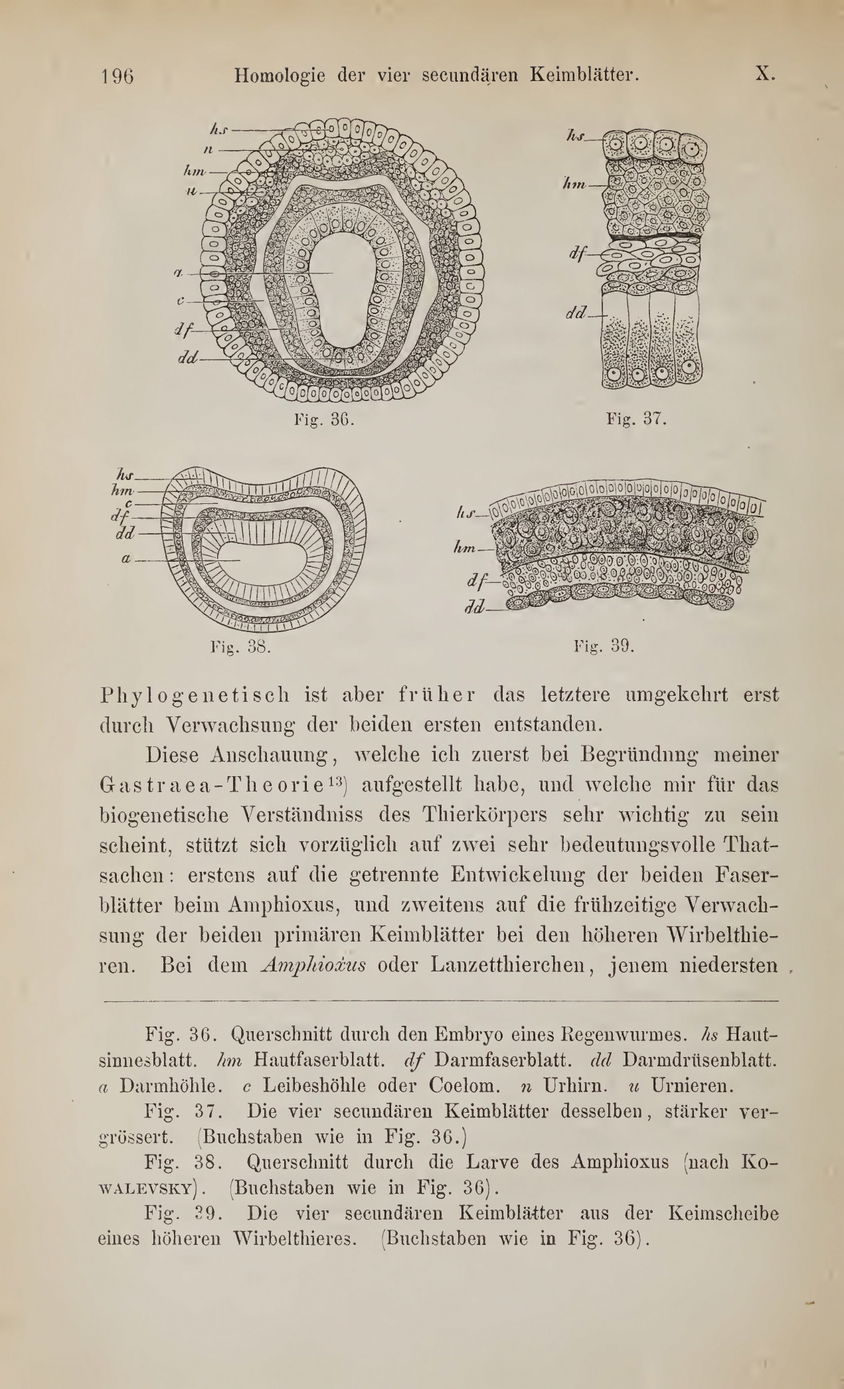GraphicZone_Description: (203, 629, 280, 665), (564, 630, 647, 663), (280, 406, 365, 435), (603, 409, 672, 428)
GraphicZone_Illustration: (167, 108, 492, 406), (438, 465, 784, 635), (542, 112, 728, 400), (103, 452, 376, 636)
MainZone: (70, 674, 801, 990)
MarginTextZone note: (77, 1011, 801, 1280)
NumberingZone chapter: (735, 52, 789, 92)
NumberingZone_page: (90, 56, 155, 97)
RunningTitleZone: (225, 56, 652, 93)
